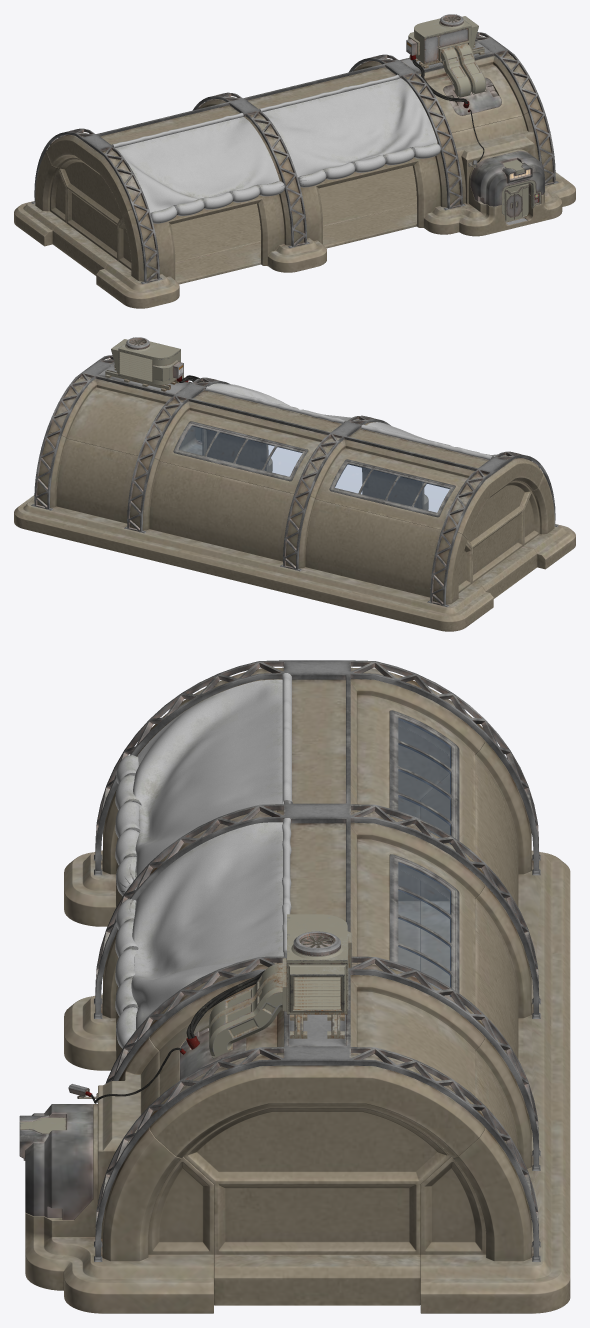
3 renders of one model, top to bottom at view 1: azimuth 30°, elevation 25°; view 2: azimuth 150°, elevation 25°; view 3: azimuth 270°, elevation 25°, orthographic. The views are drawn at different scales.
Visible parts, largest first — view 1: Building, Building.Slice.012, Cloth.002, Cloth.001, Reinformcement, Building.Slice.010, AirConditioner, ClothBundle.002, ClothBundle.001, Airducts, Building.Slice.001, DoorLower (+1 smaller); view 2: Building, Building.Slice.012, Reinformcement, Windows, WindowBorder, AirConditioner, Cloth.002, Cloth.001; view 3: Building.Slice.012, Building, Reinformcement, Cloth.002, Cloth.001, Windows, AirConditioner, Building.Slice.010, WindowBorder, Airducts, ClothBundle.001, ClothBundle.002 (+2 smaller).
Boxes of the visible parts, x1,y1,x2,y2 form: Building: (14, 109, 575, 308); Building.Slice.012: (46, 36, 540, 275); Cloth.002: (259, 74, 437, 177); Cloth.001: (112, 112, 279, 213); Reinformcement: (34, 32, 555, 282); Building.Slice.010: (470, 150, 544, 206); AirConditioner: (406, 14, 484, 68); ClothBundle.002: (298, 143, 440, 187); ClothBundle.001: (150, 181, 284, 223); Airducts: (440, 43, 486, 97); Building.Slice.001: (443, 77, 501, 115); DoorLower: (504, 186, 528, 221); Building: (14, 426, 575, 631); Building.Slice.012: (49, 359, 543, 598); Reinformcement: (34, 355, 555, 605); Windows: (179, 426, 449, 512); WindowBorder: (173, 421, 455, 517); AirConditioner: (105, 337, 183, 391); Cloth.002: (204, 383, 359, 423); Cloth.001: (361, 422, 506, 459); Building.Slice.012: (149, 667, 484, 1305); Building: (25, 741, 570, 1313); Reinformcement: (95, 660, 539, 1257); Cloth.002: (131, 818, 291, 1029); Cloth.001: (133, 673, 292, 876); Windows: (398, 718, 450, 996); AirConditioner: (282, 914, 351, 1038); Building.Slice.010: (19, 1104, 93, 1220); WindowBorder: (389, 710, 459, 997); Airducts: (209, 963, 282, 1058); ClothBundle.001: (115, 755, 139, 899); ClothBundle.002: (115, 899, 137, 1052).
Bounding box in the file's own units: 3343 × 1092 × 1774.
Materials: 6 (6 with a texture image).
